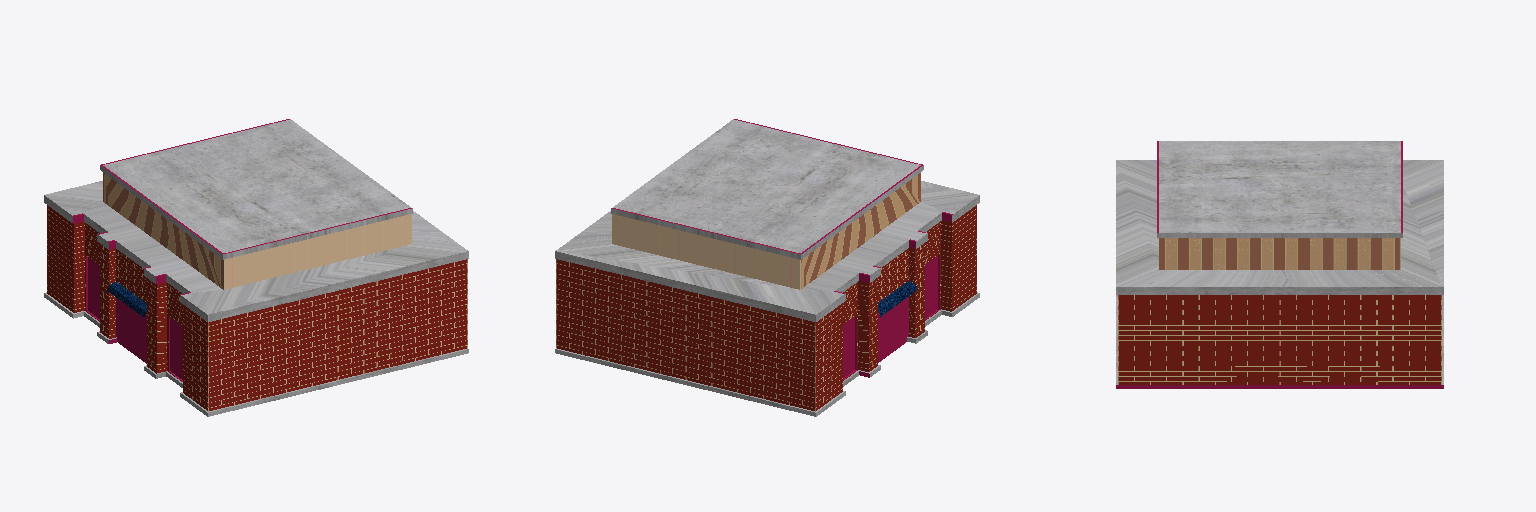
3 renders of one model, left to right at view 1: azimuth 30°, elevation 25°; view 2: azimuth 150°, elevation 25°; view 3: azimuth 270°, elevation 25°, orthographic.
Visible parts, largest first — view 1: zoo_venirs; view 2: zoo_venirs; view 3: zoo_venirs.
Part boxes in pixels (x1,y1,x2,y2): zoo_venirs: (44,119,468,416); zoo_venirs: (555,119,979,416); zoo_venirs: (1116,141,1443,388).
Bounding box in the file's own units: 74.99 × 38 × 81.35.
Materials: 4 (3 with a texture image).